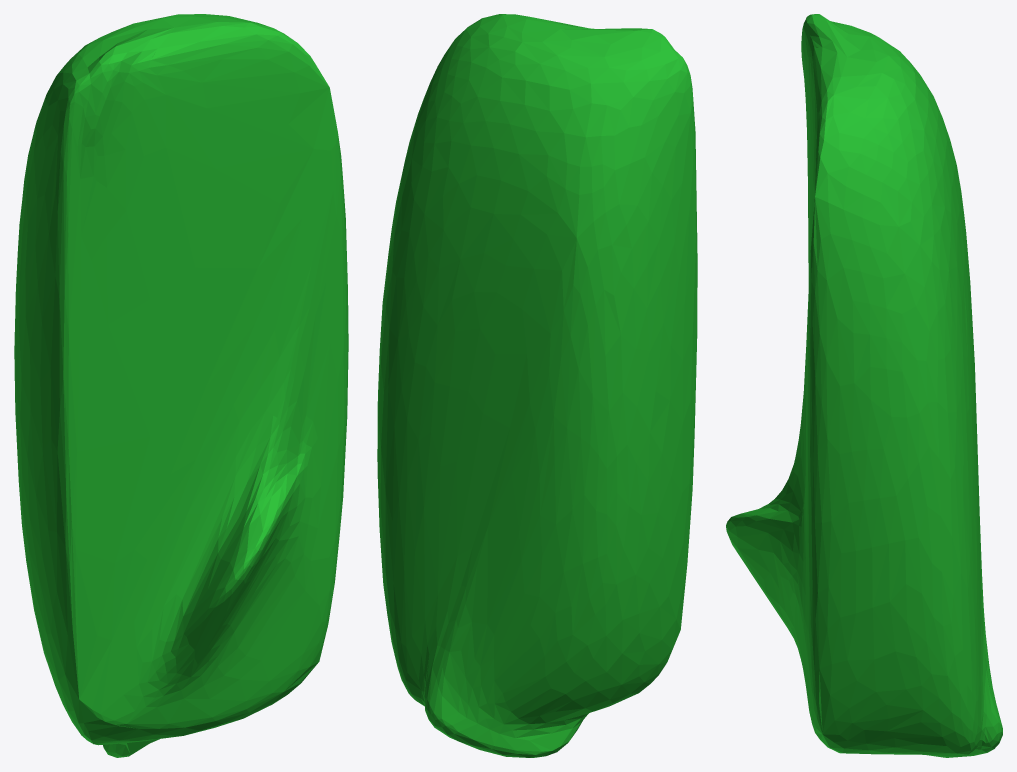
3 renders of one model, left to right at view 1: azimuth 30°, elevation 25°; view 2: azimuth 150°, elevation 25°; view 3: azimuth 270°, elevation 25°, orthographic. The views are drawn at different scales.
Parts seen in each view (by area): view 1: 714_Cube.2869; view 2: 714_Cube.2869; view 3: 714_Cube.2869.
Part boxes in pixels (left/top/right/bottom): 714_Cube.2869: left=14, top=14, right=348, bottom=757; 714_Cube.2869: left=377, top=14, right=697, bottom=757; 714_Cube.2869: left=726, top=14, right=1002, bottom=757.
Size of the model in its own units: 5.4 by 13.04 by 4.61.
